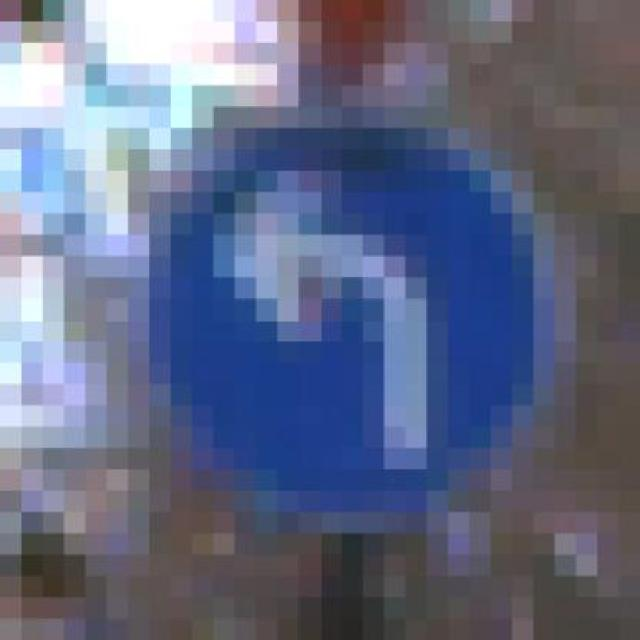Turn left ahead: (128, 106, 555, 512)
